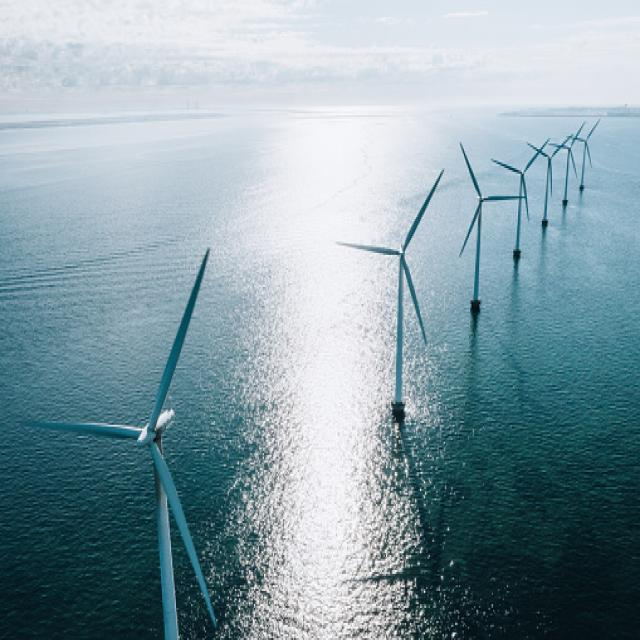solid-blade: (150, 442, 216, 627), (148, 249, 209, 427), (401, 170, 443, 251), (402, 260, 426, 344), (29, 421, 142, 438), (459, 202, 482, 256), (460, 142, 482, 198), (336, 243, 400, 255), (484, 195, 526, 201)
